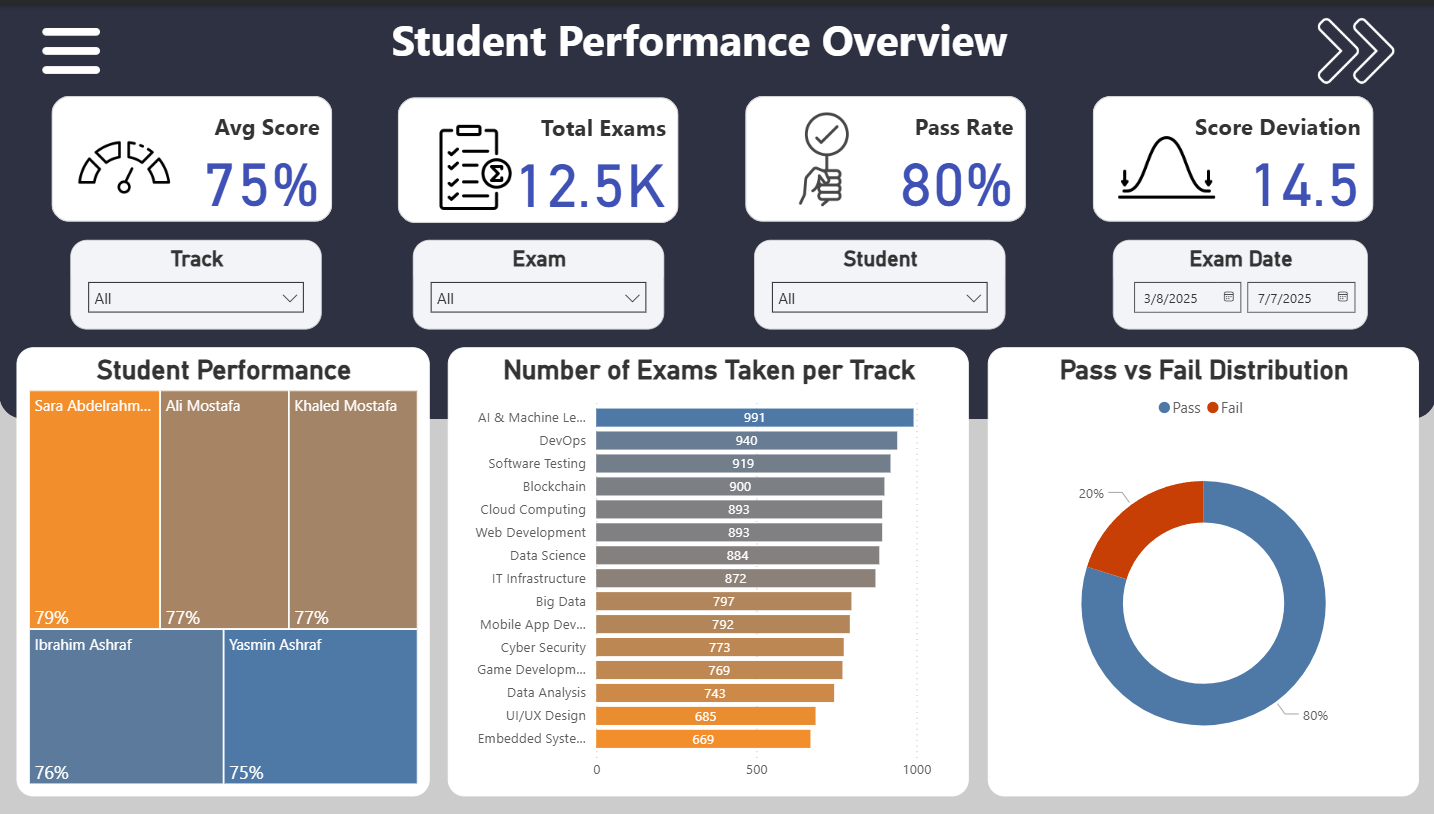

What the dashboard file says about the page in this screenshot:
{"tool":"powerbi","page":{"name":"01.Student Performance Overview","canvas":[1280,720],"ordinal":0},"visuals":[{"type":"shape","box":[0,0,1280,368],"z":0},{"type":"cardVisual","fields":{"Data":["Fact_Exam_Result.Avg_Student_Score"]},"box":[46.2,79.9,250,112],"z":1000},{"type":"cardVisual","fields":{"Data":["Fact_Exam_Result.Total_Exams_Taken"]},"box":[355.5,81.8,250,112],"z":2000},{"type":"cardVisual","fields":{"Data":["Fact_Exam_Result.Pass_Rate"]},"box":[664.9,79.9,250,112],"z":3000},{"type":"cardVisual","fields":{"Data":["Fact_Exam_Result.Score_Std_Dev"]},"box":[974.2,79.9,250,112],"z":4000},{"type":"barChart","title":"Number of Exams Taken per Track","fields":{"Category":["Dim_Track.Track_Name"],"Y":["Fact_Exam_Result.Total_Exams_Taken"]},"box":[400,304,464,400],"z":5000},{"type":"donutChart","title":"Pass vs Fail Distribution","fields":{"Y":["CountNonNull(Fact_Exam_Result.Exam_SK_FK)"],"Category":["Fact_Exam_Result.Result"]},"box":[880,304,384,400],"z":6000},{"type":"slicer","title":"Student","fields":{"Values":["Dim_student.full_Name"]},"box":[672,208,224,80],"z":7000},{"type":"slicer","title":"Track","fields":{"Values":["Dim_Track.Track_Name"]},"box":[64,208,224,80],"z":8000},{"type":"slicer","title":"Exam","fields":{"Values":["Dim_Exam.Exam_Name"]},"box":[368,208,224,80],"z":9000},{"type":"slicer","title":"Exam Date","fields":{"Values":["Fact_Exam_Result.Exam_Date"]},"box":[992,208,227,80],"z":10000},{"type":"treemap","title":"Student Performance","fields":{"Group":["Dim_student.Full_Name"],"Values":["Fact_Exam_Result.Avg_Student_Score"]},"box":[16,304,368,400],"z":11000},{"type":"textbox","box":[304,0,640,64],"z":12000},{"type":"image","box":[368,96,112,96],"z":13000},{"type":"image","box":[992,96,96,96],"z":14000},{"type":"image","box":[64,96,96,96],"z":15000},{"type":"image","box":[688,80,96,112],"z":16000},{"type":"image","box":[1136,0,144,80],"z":17000},{"type":"image","box":[32,0,64,80],"z":18000}]}

Visuals, with their boxes in screenshot pixels (x1, y1, x2, y2), scaled from the page's 1280x720 canvas onto the 1434x814 screenshot:
shape: <region>0, 0, 1433, 416</region>
cardVisual - Fact_Exam_Result.Avg_Student_Score: <region>52, 90, 332, 217</region>
cardVisual - Fact_Exam_Result.Total_Exams_Taken: <region>398, 92, 678, 219</region>
cardVisual - Fact_Exam_Result.Pass_Rate: <region>745, 90, 1025, 217</region>
cardVisual - Fact_Exam_Result.Score_Std_Dev: <region>1091, 90, 1371, 217</region>
"Number of Exams Taken per Track" barChart: <region>448, 344, 968, 796</region>
"Pass vs Fail Distribution" donutChart: <region>986, 344, 1416, 796</region>
"Student" slicer: <region>753, 235, 1004, 326</region>
"Track" slicer: <region>72, 235, 323, 326</region>
"Exam" slicer: <region>412, 235, 663, 326</region>
"Exam Date" slicer: <region>1111, 235, 1366, 326</region>
"Student Performance" treemap: <region>18, 344, 430, 796</region>
textbox: <region>341, 0, 1058, 72</region>
image: <region>412, 109, 538, 217</region>
image: <region>1111, 109, 1219, 217</region>
image: <region>72, 109, 179, 217</region>
image: <region>771, 90, 878, 217</region>
image: <region>1273, 0, 1433, 90</region>
image: <region>36, 0, 108, 90</region>
